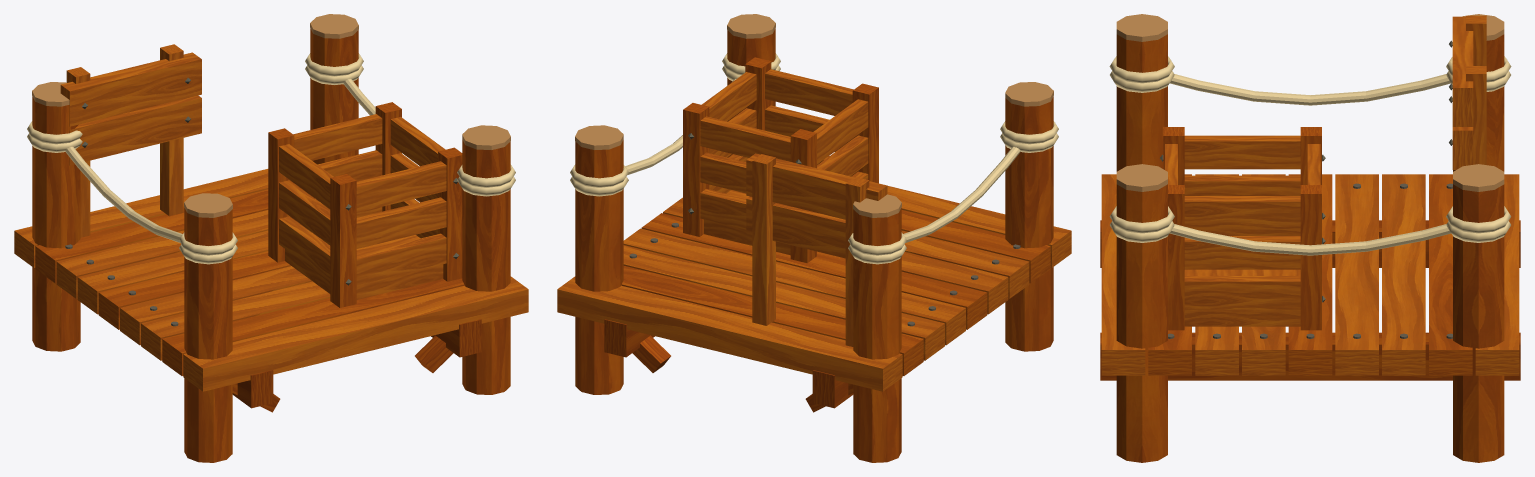
The model's file is dock-simple-three.gltf.
3 views of the same model, side by side, from view 1: azimuth 30°, elevation 25°; view 2: azimuth 150°, elevation 25°; view 3: azimuth 270°, elevation 25° (orthographic). The views are drawn at different scales.
Visible parts, largest first — view 1: dock-simple-three; view 2: dock-simple-three; view 3: dock-simple-three.
Boxes of the visible parts, bbox=[...] form: dock-simple-three: bbox=[14, 14, 528, 462]; dock-simple-three: bbox=[557, 14, 1071, 462]; dock-simple-three: bbox=[1100, 14, 1520, 462].
Size of the model in its own units: 1.8 by 1.38 by 1.8.
2 materials, 1 textured.
